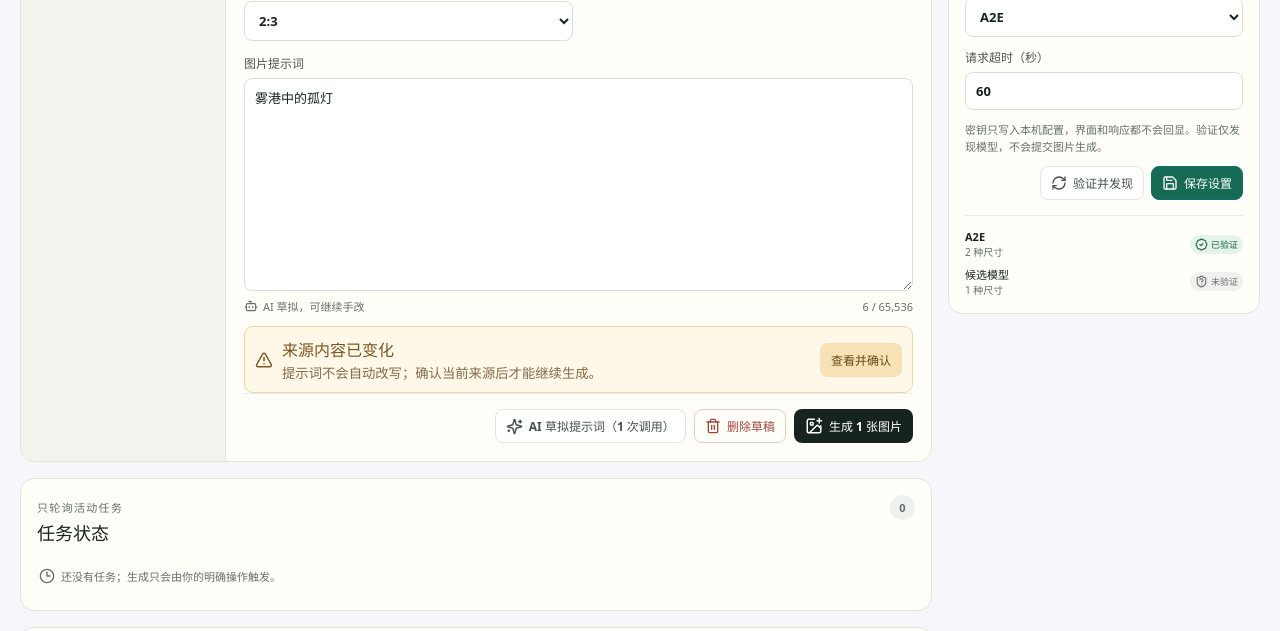
Test case: ArtworkWorkspace › requires separate stale and potentially-paid confirmations without hidden generation
The width and height of the screenshot is (1280, 631).
Later steps or results of the test are not shown.
Click the button "查看并确认".
click(861, 360)  # box left=820, top=343, right=902, bottom=377
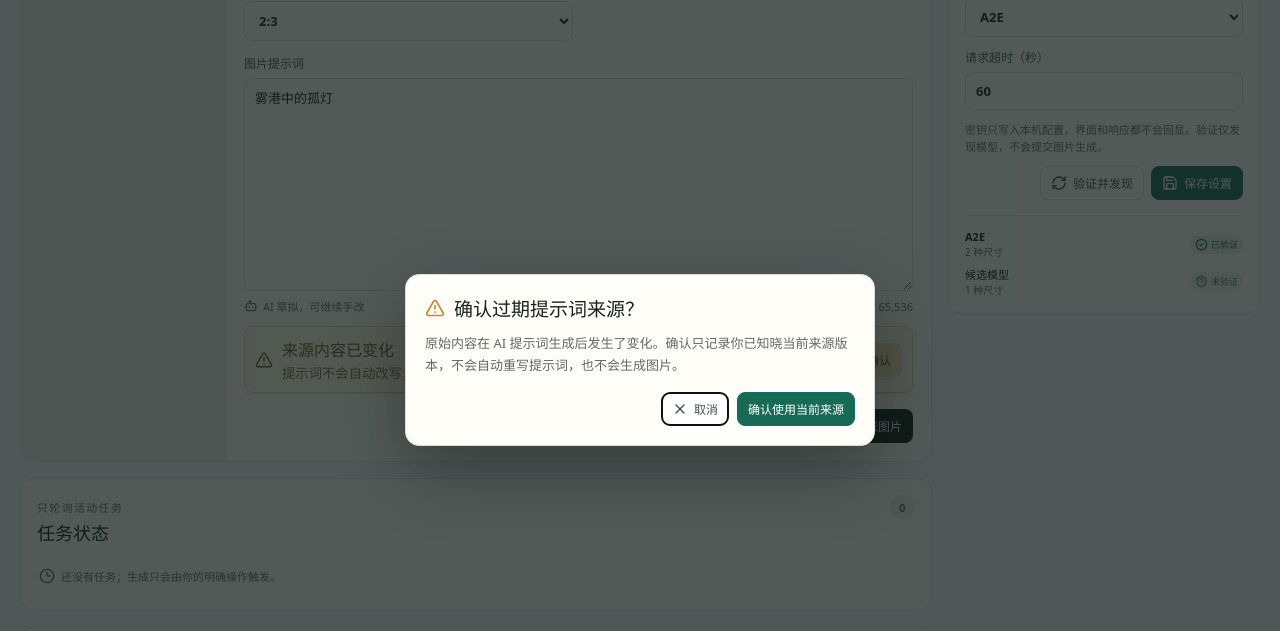
Click the button "确认使用当前来源".
click(796, 409)  # box left=737, top=392, right=855, bottom=426
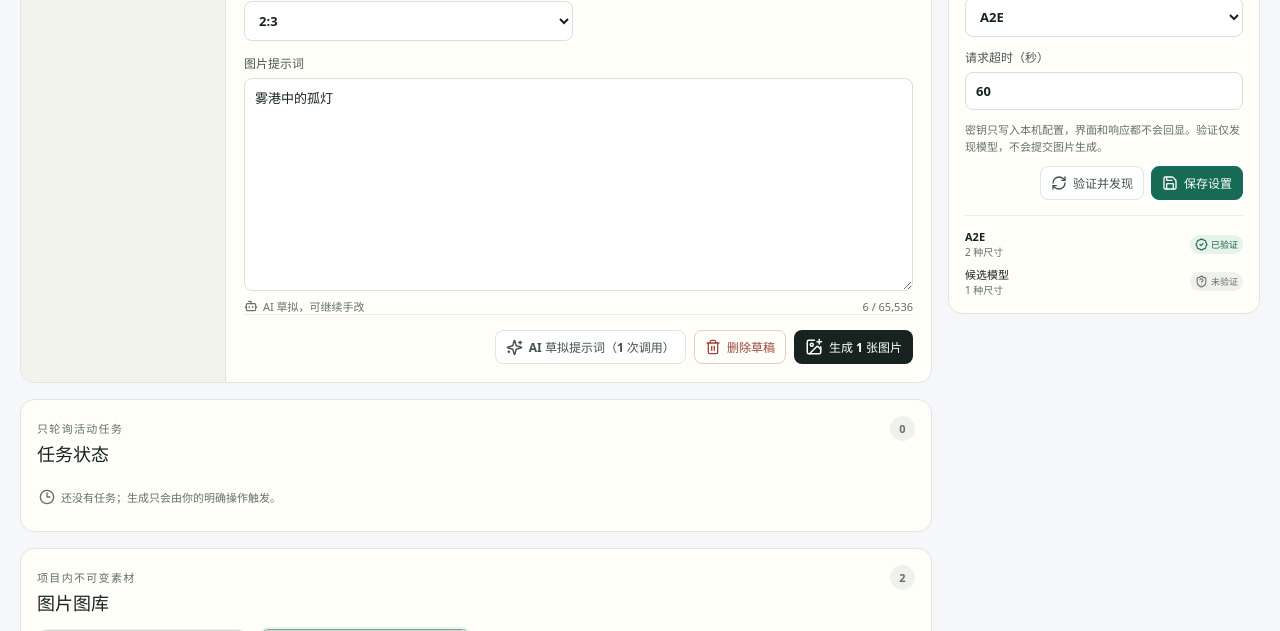
Click the button "生成 1 张图片".
click(853, 347)  # box left=794, top=330, right=913, bottom=364
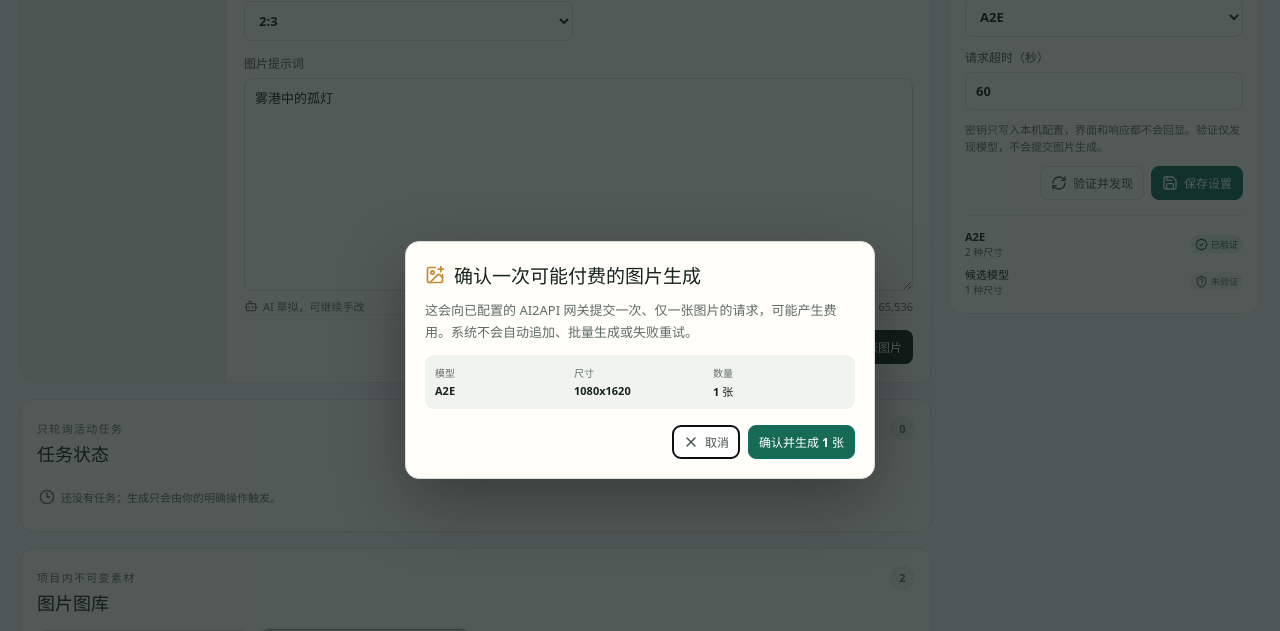
Expected: the text "可能产生费用" is shown, left=425, top=301, right=836, bottom=340
